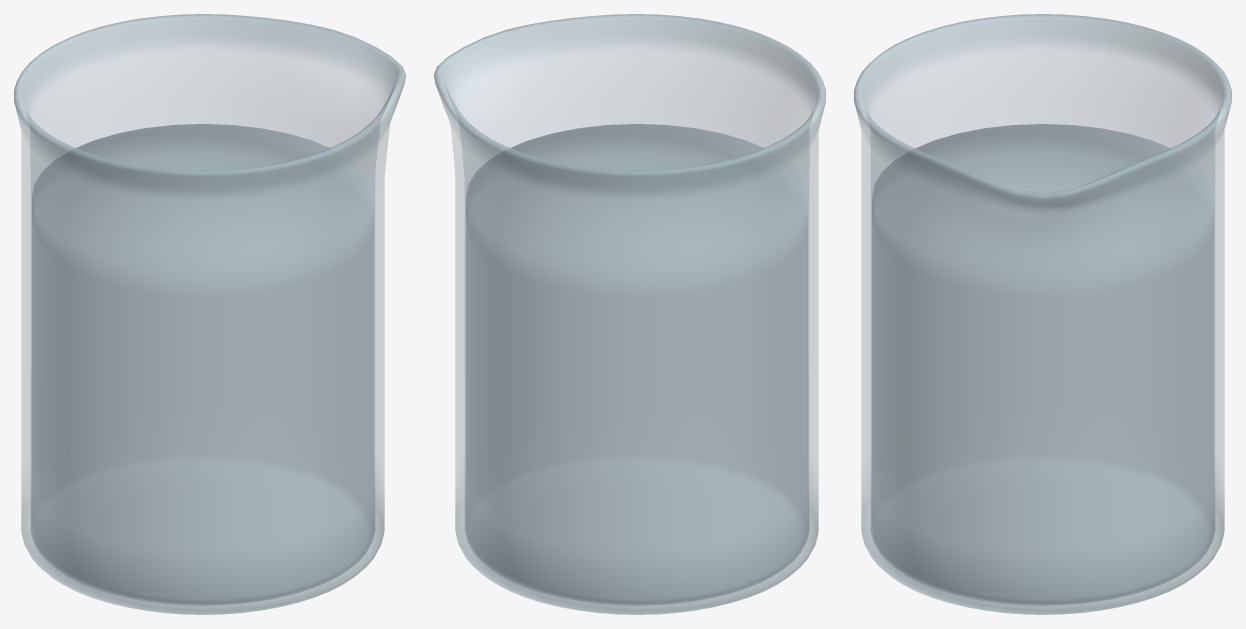
The model's file is beaker-250ml.glb.
The picture shows the model from 3 angles, left to right: view 1: azimuth 30°, elevation 25°; view 2: azimuth 150°, elevation 25°; view 3: azimuth 270°, elevation 25°; orthographic projection.
Parts seen in each view (by area): view 1: beaker-250ml-glass, beaker-250ml-inner; view 2: beaker-250ml-glass, beaker-250ml-inner; view 3: beaker-250ml-glass, beaker-250ml-inner.
Boxes of the visible parts, x1=… form: beaker-250ml-glass: x1=14, y1=14, x2=405, y2=614; beaker-250ml-inner: x1=32, y1=124, x2=373, y2=603; beaker-250ml-glass: x1=434, y1=14, x2=825, y2=614; beaker-250ml-inner: x1=466, y1=124, x2=807, y2=603; beaker-250ml-glass: x1=854, y1=14, x2=1231, y2=614; beaker-250ml-inner: x1=872, y1=124, x2=1213, y2=603.
Size of what is drawn, in the model's own units: 7.88 by 9.61 by 7.27.
